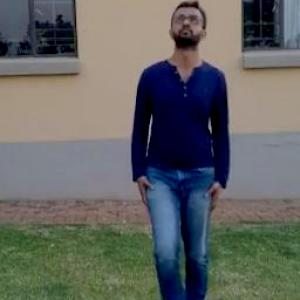follow: (128, 0, 239, 294)
